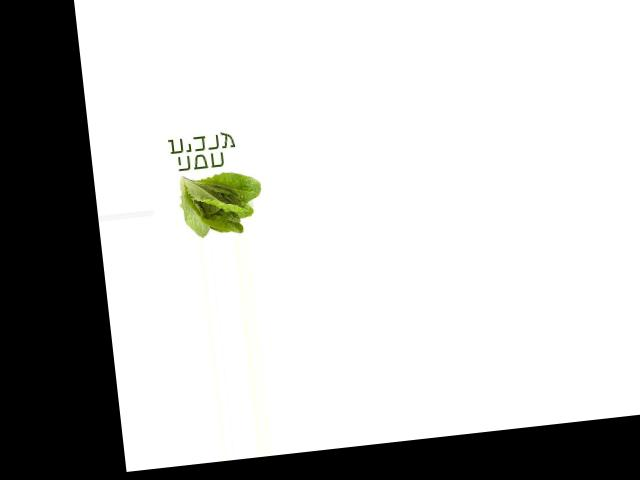lettuce: (171, 160, 266, 240)
